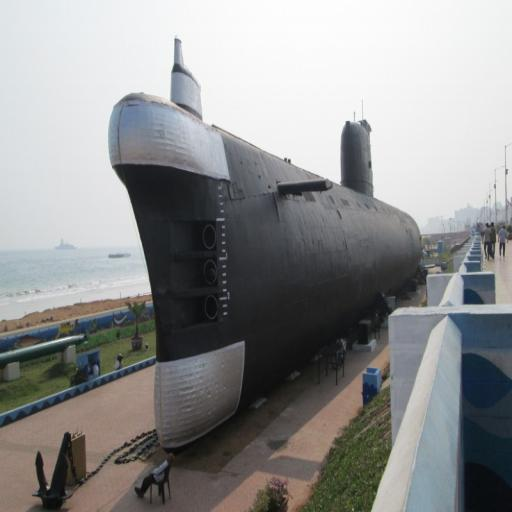submarine: (111, 31, 449, 462)
